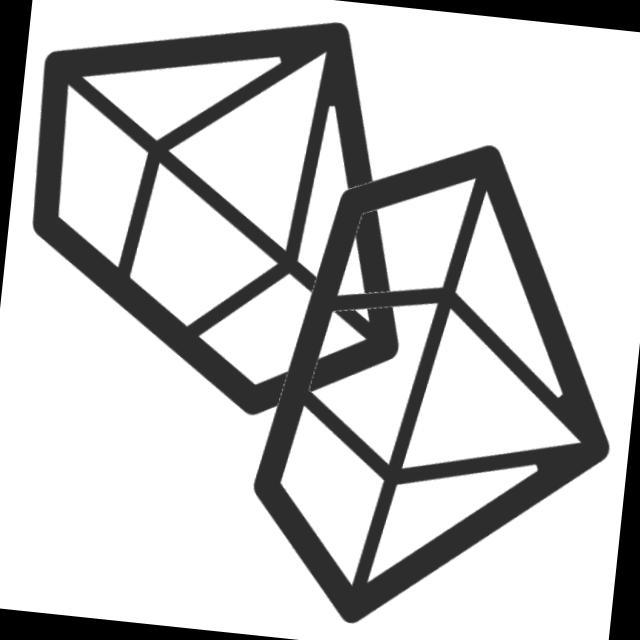diamond: (225, 109, 640, 640), (1, 1, 443, 452)
